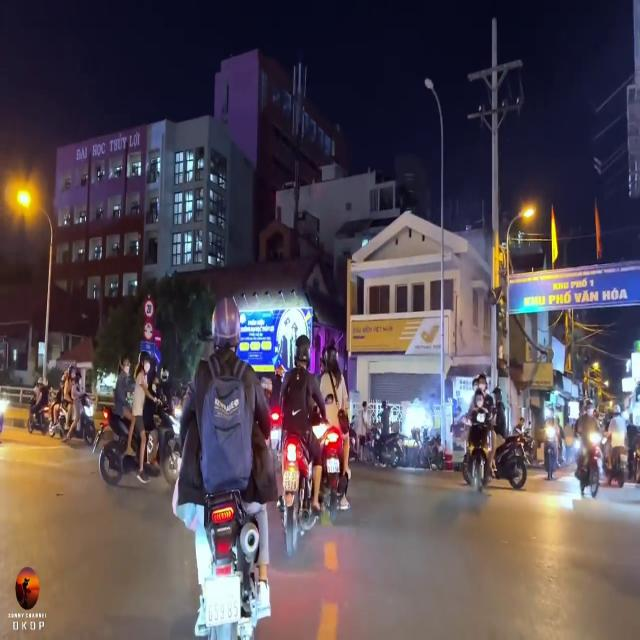bien_trang: (207, 569, 244, 623), (282, 467, 300, 491)
